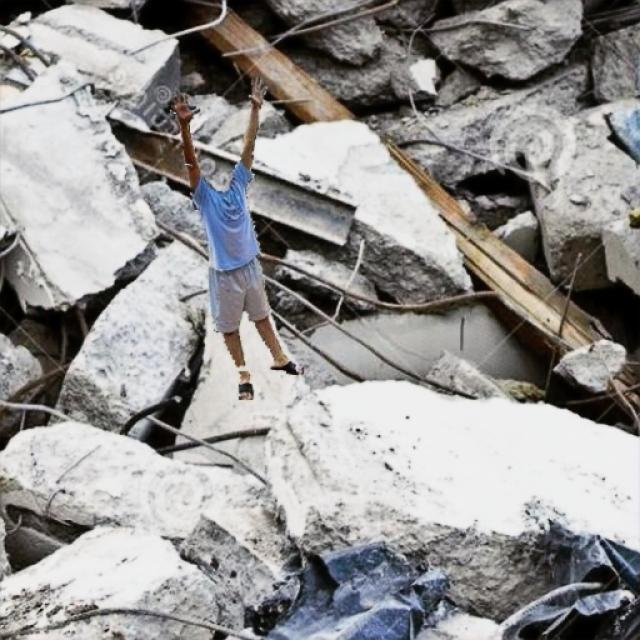Person in Rubble: (170, 78, 302, 398)
